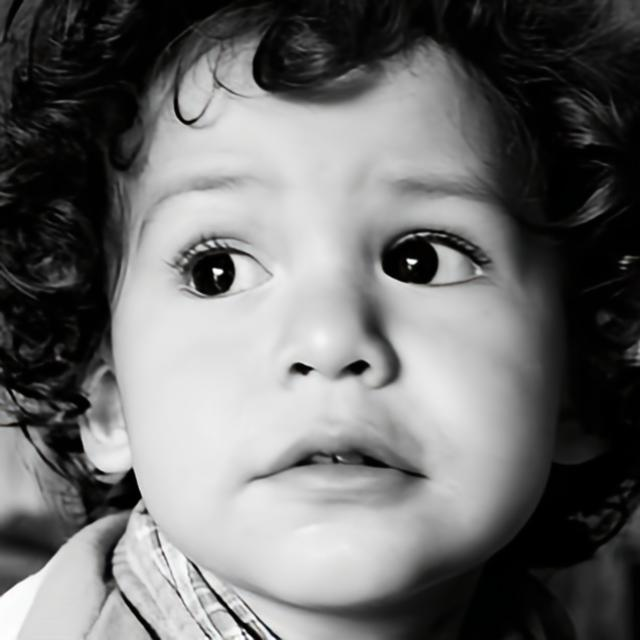fear: (106, 39, 564, 614)
